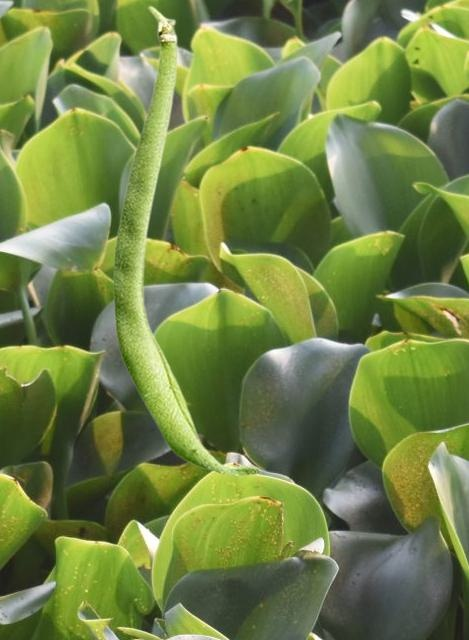french_bean: (113, 5, 261, 476)
